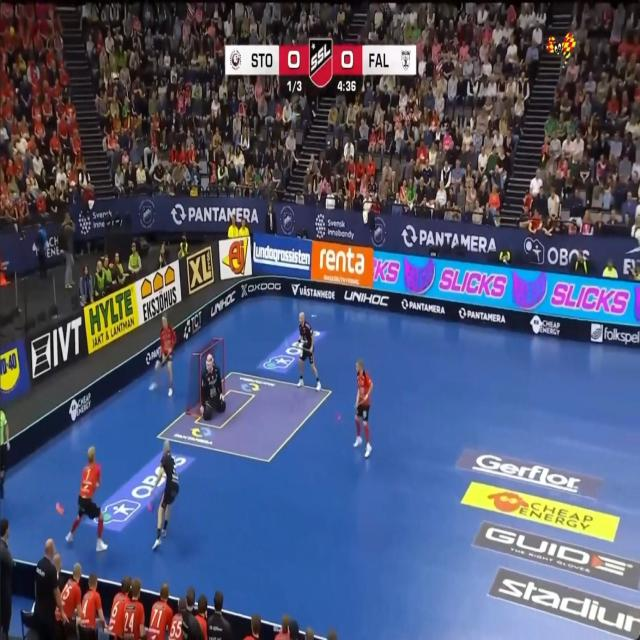player: (74, 447, 107, 550), (152, 441, 179, 549), (150, 315, 176, 395), (354, 360, 373, 457), (298, 312, 320, 390), (200, 355, 225, 420), (148, 583, 173, 639)
